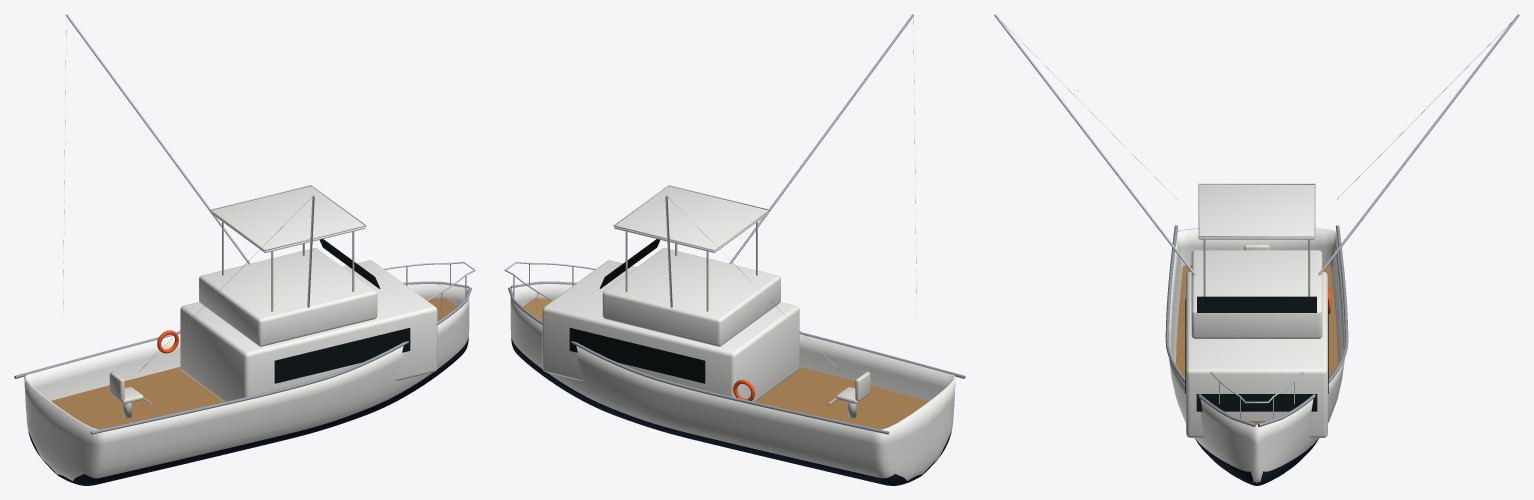
File: sport.glb
The picture shows the model from 3 angles, left to right: view 1: azimuth 30°, elevation 25°; view 2: azimuth 150°, elevation 25°; view 3: azimuth 270°, elevation 25°; orthographic projection. The views are drawn at different scales.
Parts seen in each view (by area): view 1: hull, cabin, flybridge, ttop_top, deck, cabin_win.001, gunwale.001, outrigger, gunwale, ttop_rail, fly_glass; view 2: hull, cabin, flybridge, ttop_top, deck, cabin_win, gunwale, outrigger.001, gunwale.001, ttop_rail, fly_glass; view 3: hull, cabin, flybridge, ttop_top, fly_glass, cabin_front, deck, outrigger, outrigger.001, gunwale, gunwale.001, ttop_rail.
Boxes of the visible parts, <box> form: hull: <box>24,284,469,485</box>; cabin: <box>180,260,437,401</box>; flybridge: <box>199,248,377,346</box>; ttop_top: <box>210,186,365,252</box>; deck: <box>51,298,456,429</box>; cabin_win.001: <box>274,328,410,383</box>; gunwale.001: <box>90,287,471,434</box>; outrigger: <box>65,14,250,264</box>; gunwale: <box>14,281,468,378</box>; ttop_rail: <box>209,185,366,250</box>; fly_glass: <box>319,239,380,288</box>; hull: <box>510,284,955,485</box>; cabin: <box>542,260,799,401</box>; flybridge: <box>602,248,780,346</box>; ttop_top: <box>614,186,769,252</box>; deck: <box>523,298,928,429</box>; cabin_win: <box>569,328,705,383</box>; gunwale: <box>508,287,889,434</box>; outrigger.001: <box>729,14,914,264</box>; gunwale.001: <box>511,281,965,378</box>; ttop_rail: <box>613,185,770,250</box>; fly_glass: <box>599,239,660,288</box>; hull: <box>1169,228,1344,485</box>; cabin: <box>1186,271,1327,437</box>; flybridge: <box>1191,250,1322,338</box>; ttop_top: <box>1198,185,1315,239</box>; fly_glass: <box>1197,296,1316,312</box>; cabin_front: <box>1196,394,1317,411</box>; deck: <box>1176,265,1337,424</box>; outrigger: <box>1318,14,1519,275</box>; outrigger.001: <box>994,14,1195,275</box>; gunwale: <box>1257,225,1348,427</box>; gunwale.001: <box>1165,225,1256,427</box>; ttop_rail: <box>1198,183,1315,237</box>.
Size of the model in its own units: 14.04 by 11 by 14.45.
